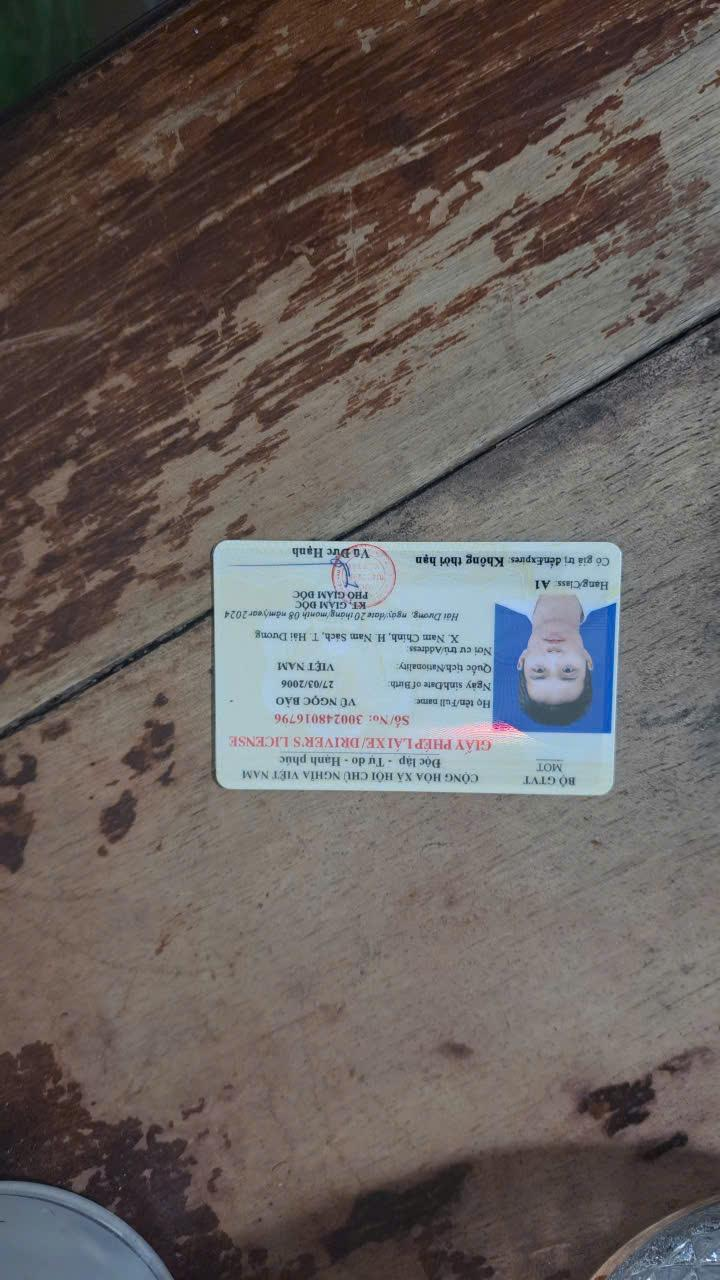gplx: (204, 531, 624, 806)
